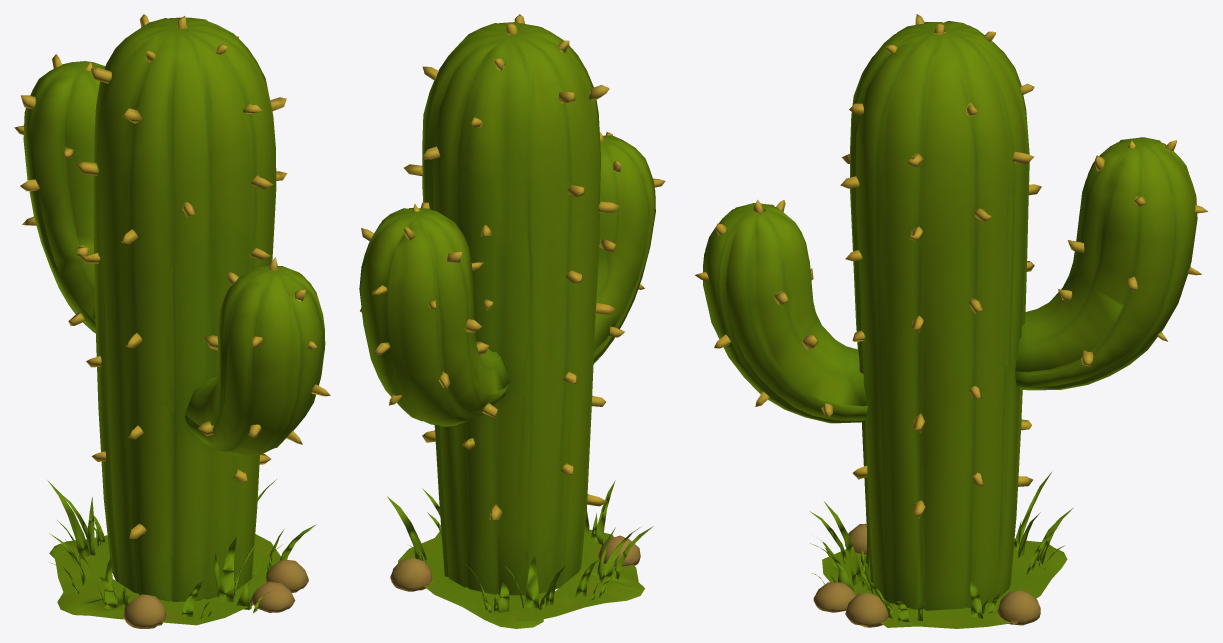
File: cactus_1.glb
3 views of the same model, side by side, from view 1: azimuth 30°, elevation 25°; view 2: azimuth 150°, elevation 25°; view 3: azimuth 270°, elevation 25° (orthographic). The views are drawn at different scales.
Visible parts, largest first — view 1: tripo_node_ff3627be-743b-4627-957a-7a27ff18d3f0; view 2: tripo_node_ff3627be-743b-4627-957a-7a27ff18d3f0; view 3: tripo_node_ff3627be-743b-4627-957a-7a27ff18d3f0.
Part boxes in pixels (x1=…): tripo_node_ff3627be-743b-4627-957a-7a27ff18d3f0: x1=14, y1=14, x2=330, y2=628; tripo_node_ff3627be-743b-4627-957a-7a27ff18d3f0: x1=359, y1=14, x2=665, y2=628; tripo_node_ff3627be-743b-4627-957a-7a27ff18d3f0: x1=695, y1=14, x2=1207, y2=628.
Size of the model in its own units: 0.4512 by 0.998 by 0.8262.
Materials: 1 (1 with a texture image).
